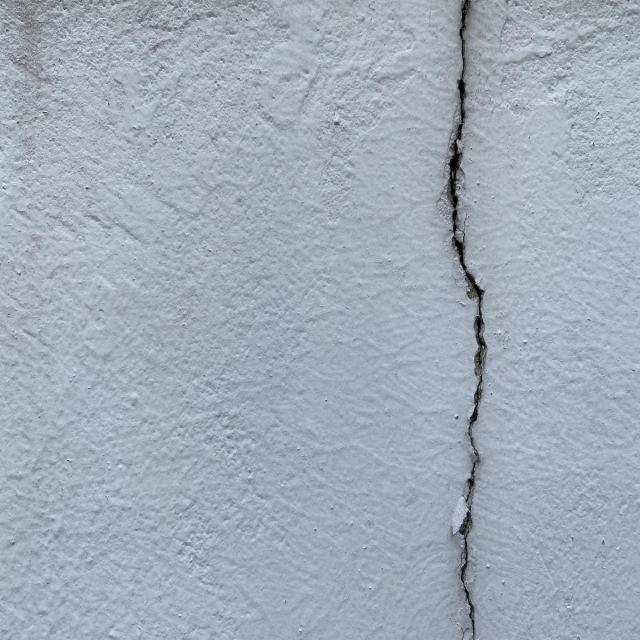SurfaceCrack: (395, 0, 527, 639)
